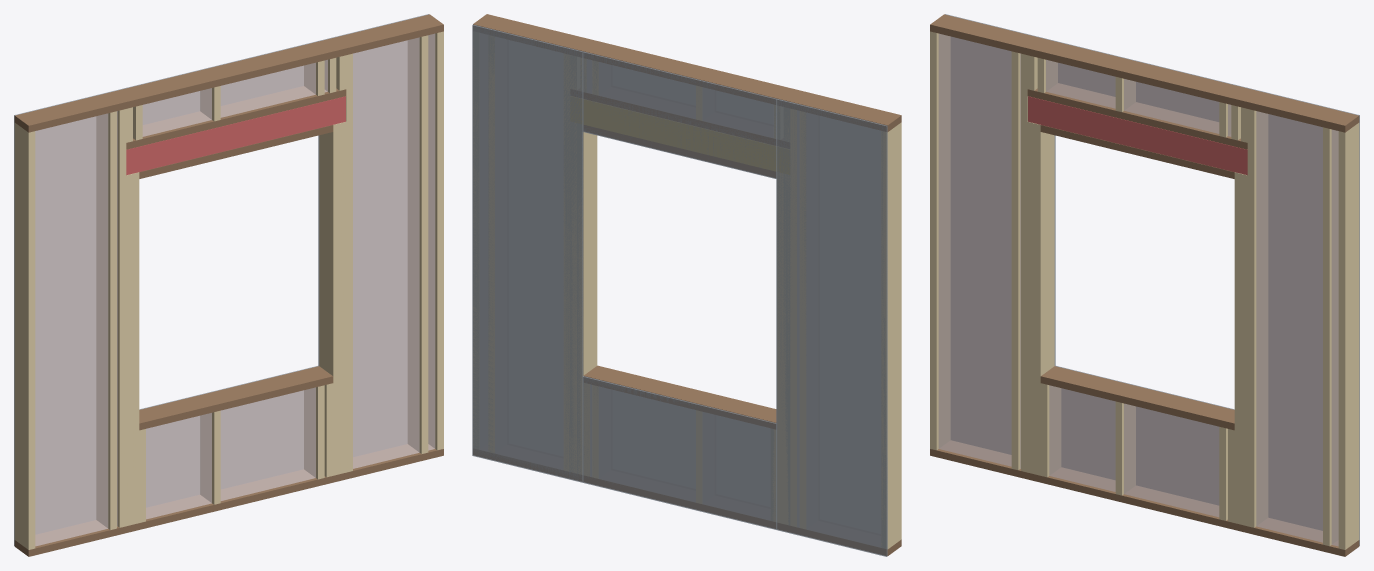
3 views of the same model, side by side, from view 1: azimuth 30°, elevation 25°; view 2: azimuth 150°, elevation 25°; view 3: azimuth 330°, elevation 25° (orthographic).
Parts seen in each view (by area): view 1: EX22 FF; view 2: EX22 FF; view 3: EX22 FF.
Boxes of the visible parts, x1,y1,x2,y2 form: EX22 FF: (14, 14, 443, 556); EX22 FF: (472, 14, 901, 556); EX22 FF: (930, 14, 1359, 556).
Size of the model in its own units: 2.4 by 2.38 by 0.149.
